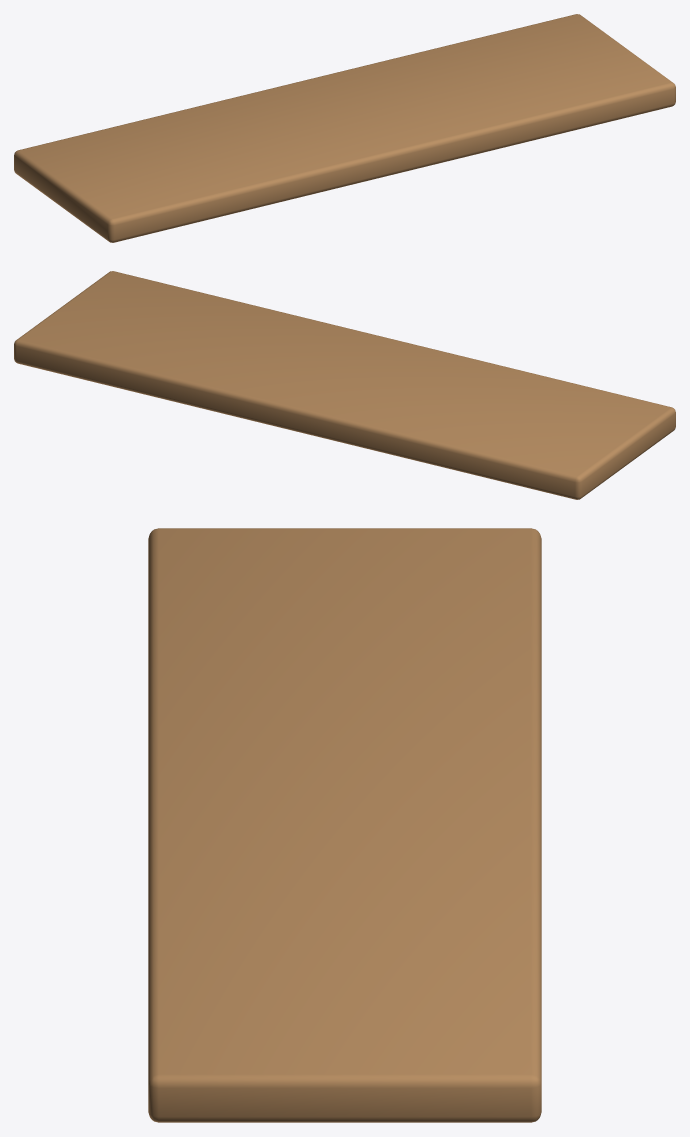
File: stair_tread.glb
3 views of the same model, one above another, from view 1: azimuth 30°, elevation 25°; view 2: azimuth 150°, elevation 25°; view 3: azimuth 270°, elevation 25° (orthographic). The views are drawn at different scales.
Visible parts, largest first — view 1: box; view 2: box; view 3: box.
Part boxes in pixels (x1,y1,x2,y2): box: (14, 14, 675, 242); box: (14, 271, 675, 499); box: (148, 528, 541, 1122).
Bounding box in the file's own units: 100 × 4 × 30.
